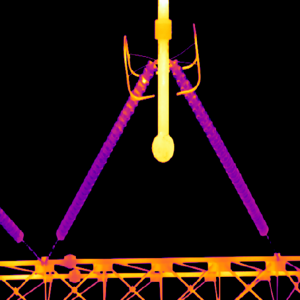insulator: (168, 59, 269, 237), (55, 61, 153, 240), (0, 211, 22, 241)
